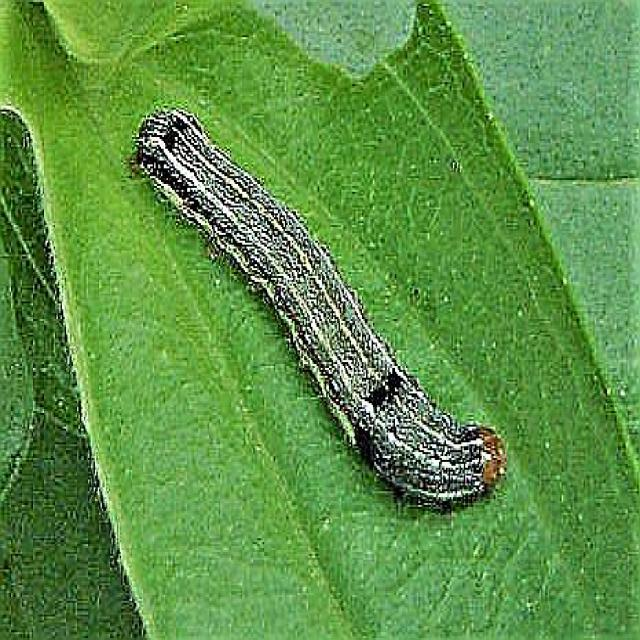Armyworm: (123, 97, 522, 551)
